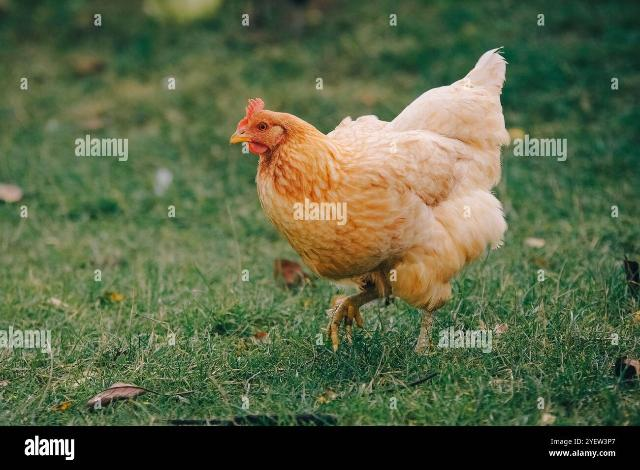Chicken: (228, 45, 511, 351)
